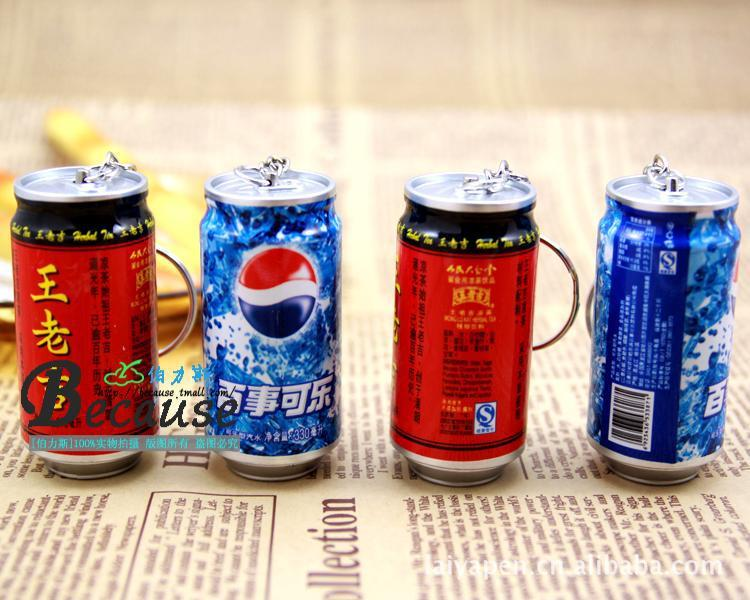metal: (586, 155, 740, 484), (391, 163, 539, 486), (201, 157, 341, 480), (10, 164, 158, 442), (34, 452, 142, 478)
